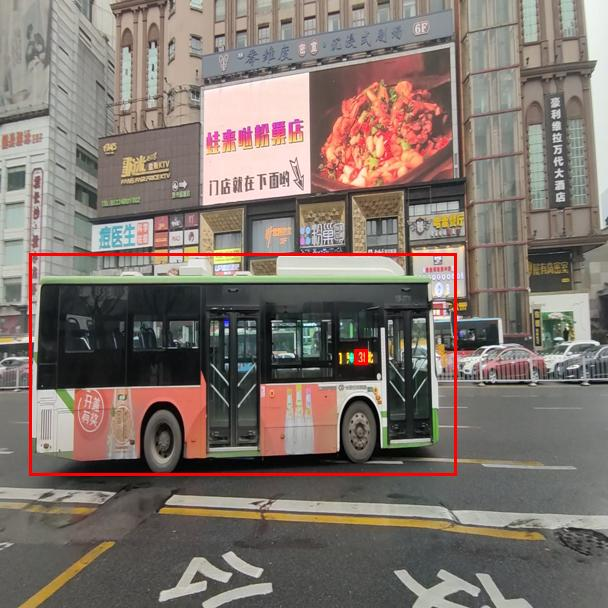bus: (29, 253, 456, 475)
screen: (354, 349, 367, 364)
